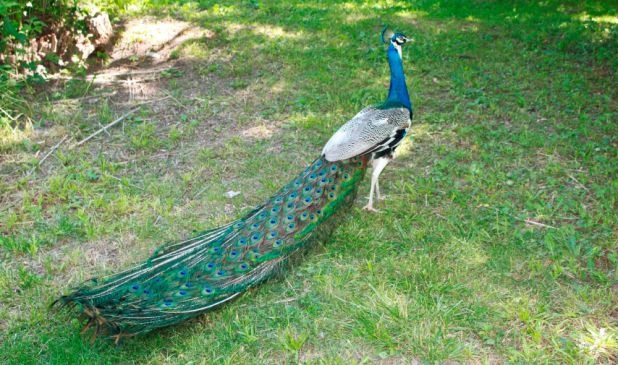pavoreal: (338, 27, 416, 195)
